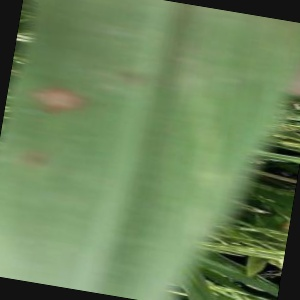Brown_Spot: (28, 58, 94, 121)
